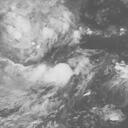cyclone: (40, 61, 73, 89)
